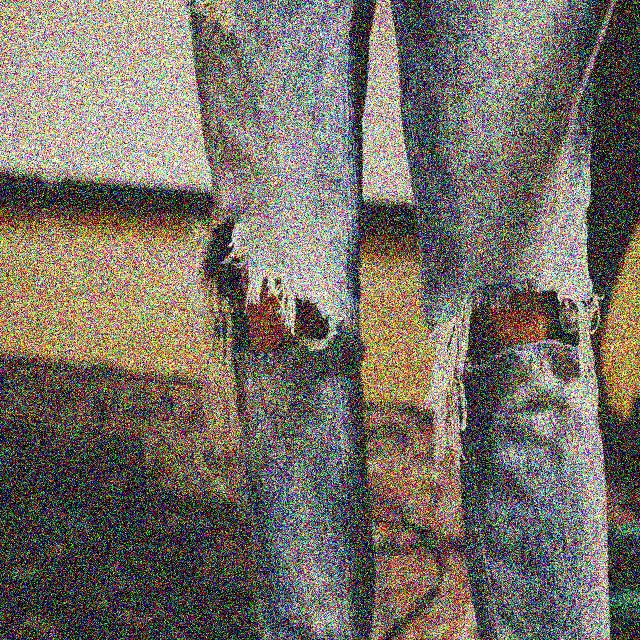ripped_pants: (181, 0, 615, 640)
